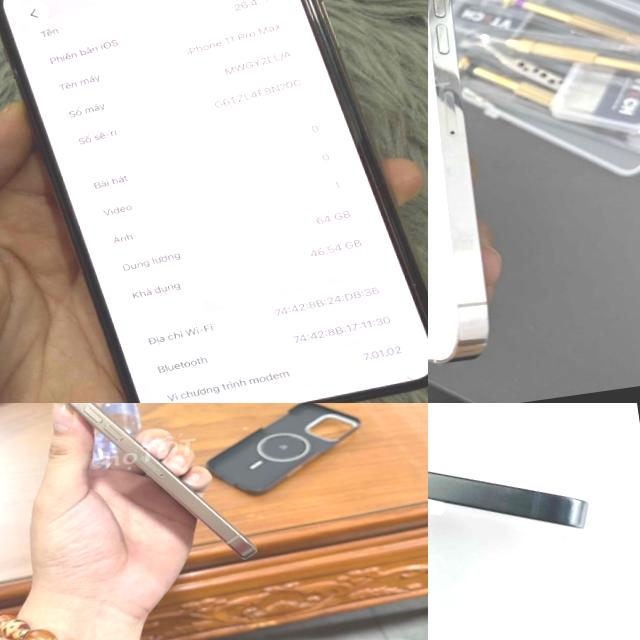gen_11: (0, 0, 428, 403)
gen_14: (428, 0, 514, 380)
gen_16: (66, 403, 257, 558), (428, 470, 588, 528)
